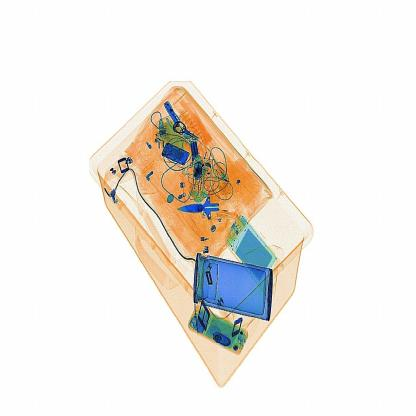gun: (180, 186, 237, 223)
